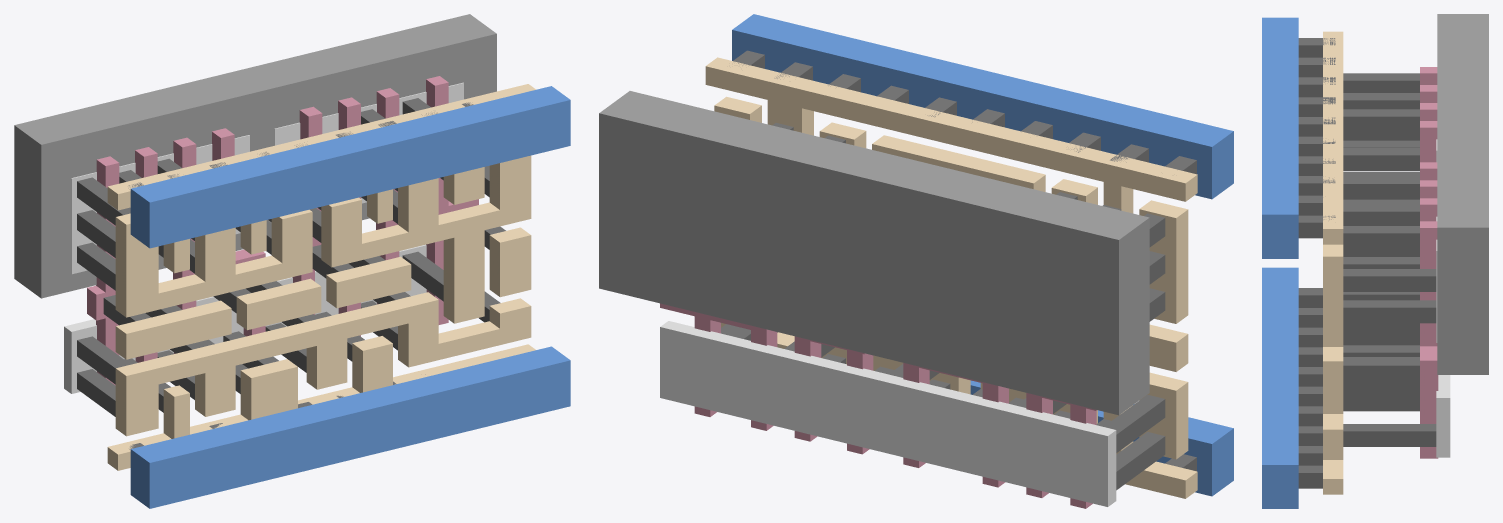
The model's file is sky130_fd_sc_hd__o31ai_2.gds.gltf.
3 views of the same model, side by side, from view 1: azimuth 30°, elevation 25°; view 2: azimuth 150°, elevation 25°; view 3: azimuth 270°, elevation 25° (orthographic). The views are drawn at different scales.
Visible parts, largest first — view 1: sky130_fd_sc_hd__o31ai_2_li1, sky130_fd_sc_hd__o31ai_2_met1, sky130_fd_sc_hd__o31ai_2_nwell, sky130_fd_sc_hd__o31ai_2_licon, sky130_fd_sc_hd__o31ai_2_poly, sky130_fd_sc_hd__o31ai_2_diff; view 2: sky130_fd_sc_hd__o31ai_2_nwell, sky130_fd_sc_hd__o31ai_2_diff, sky130_fd_sc_hd__o31ai_2_li1, sky130_fd_sc_hd__o31ai_2_met1, sky130_fd_sc_hd__o31ai_2_licon, sky130_fd_sc_hd__o31ai_2_poly, sky130_fd_sc_hd__o31ai_2_mcon; view 3: sky130_fd_sc_hd__o31ai_2_licon, sky130_fd_sc_hd__o31ai_2_nwell, sky130_fd_sc_hd__o31ai_2_met1, sky130_fd_sc_hd__o31ai_2_mcon, sky130_fd_sc_hd__o31ai_2_li1, sky130_fd_sc_hd__o31ai_2_poly, sky130_fd_sc_hd__o31ai_2_diff.
Part boxes in pixels (<box>): sky130_fd_sc_hd__o31ai_2_li1: <box>107,84,535,470</box>; sky130_fd_sc_hd__o31ai_2_met1: <box>130,86,570,508</box>; sky130_fd_sc_hd__o31ai_2_nwell: <box>14,14,496,298</box>; sky130_fd_sc_hd__o31ai_2_licon: <box>77,98,505,416</box>; sky130_fd_sc_hd__o31ai_2_poly: <box>87,76,478,385</box>; sky130_fd_sc_hd__o31ai_2_diff: <box>64,82,463,393</box>; sky130_fd_sc_hd__o31ai_2_nwell: <box>599,91,1149,415</box>; sky130_fd_sc_hd__o31ai_2_diff: <box>660,321,1116,506</box>; sky130_fd_sc_hd__o31ai_2_li1: <box>705,57,1197,498</box>; sky130_fd_sc_hd__o31ai_2_met1: <box>732,14,1233,496</box>; sky130_fd_sc_hd__o31ai_2_licon: <box>721,123,1165,490</box>; sky130_fd_sc_hd__o31ai_2_poly: <box>660,303,1097,508</box>; sky130_fd_sc_hd__o31ai_2_mcon: <box>733,50,1196,471</box>; sky130_fd_sc_hd__o31ai_2_licon: <box>1343,73,1436,446</box>; sky130_fd_sc_hd__o31ai_2_nwell: <box>1437,14,1488,374</box>; sky130_fd_sc_hd__o31ai_2_met1: <box>1262,17,1298,508</box>; sky130_fd_sc_hd__o31ai_2_mcon: <box>1298,38,1335,488</box>; sky130_fd_sc_hd__o31ai_2_li1: <box>1323,31,1343,494</box>; sky130_fd_sc_hd__o31ai_2_poly: <box>1420,67,1438,458</box>; sky130_fd_sc_hd__o31ai_2_diff: <box>1436,139,1450,457</box>.
Size of the model in its own units: 4.98 by 3.2 by 2.24.
